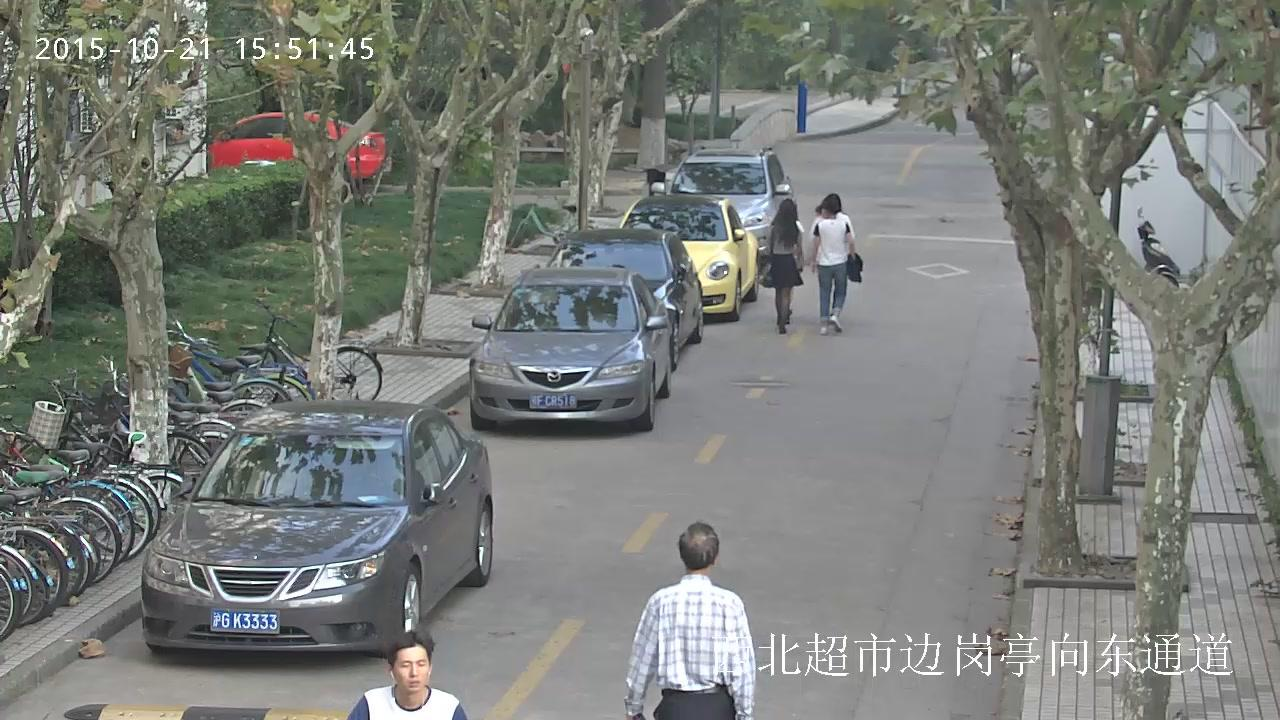face: (395, 644, 430, 692), (821, 208, 829, 217)
